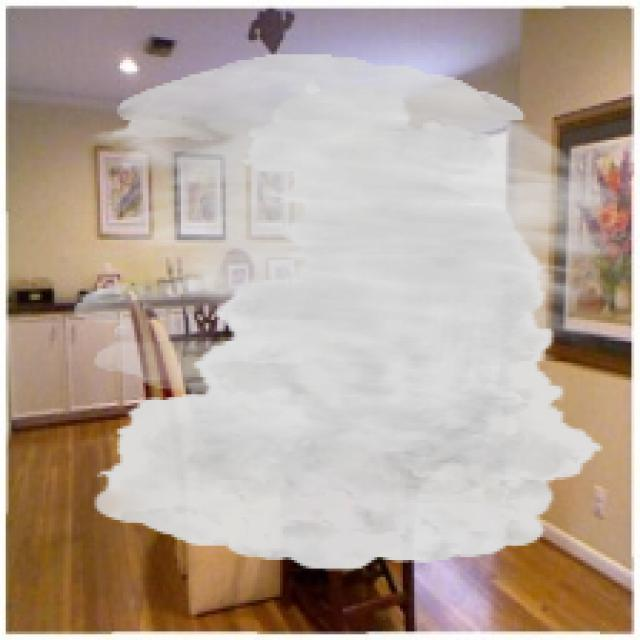smoke: (74, 54, 626, 572)
